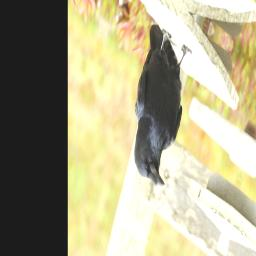Crow: (118, 18, 198, 195)
